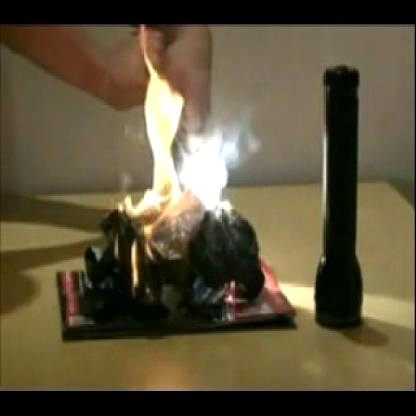fire: (119, 38, 240, 244)
